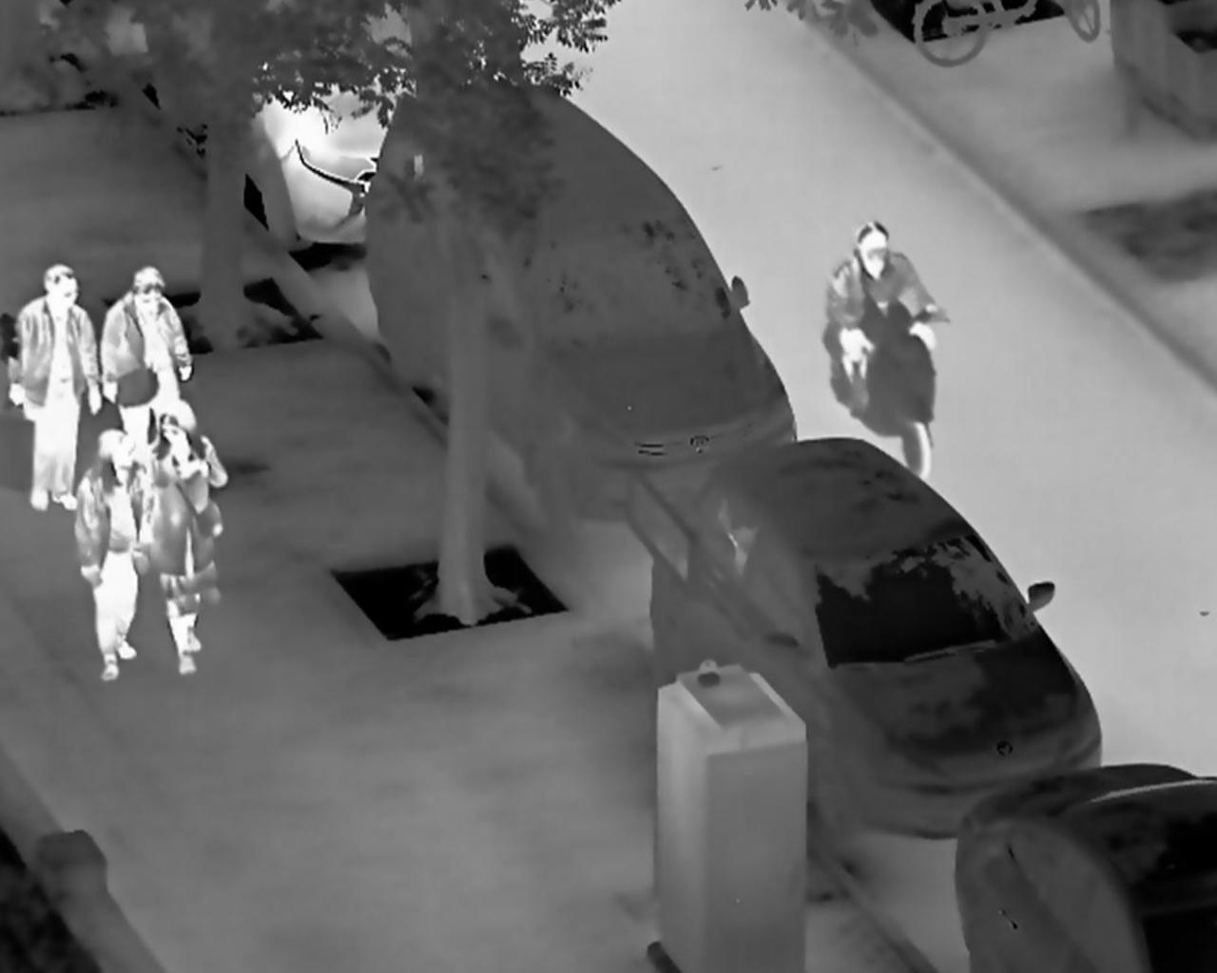person: (824, 217, 947, 414), (141, 404, 225, 677), (8, 264, 100, 513), (76, 429, 152, 684), (103, 263, 196, 441)
